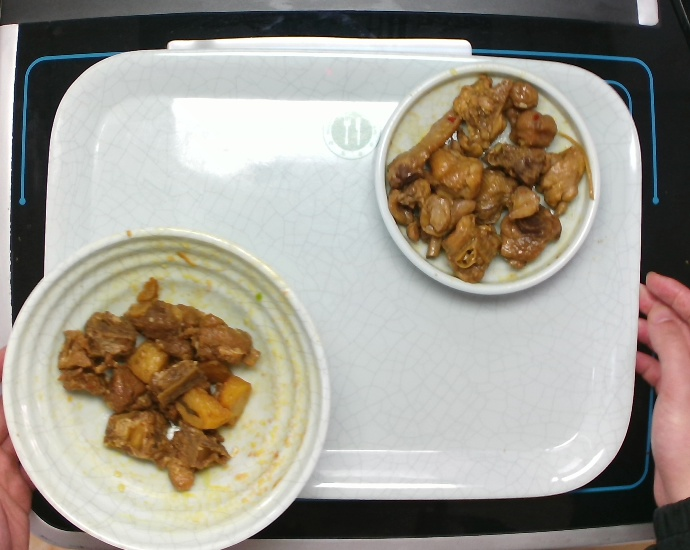JYsf-Da_Tang_Wan: (1, 227, 344, 550)
JYsf-Xiao_Yuan_Pan: (365, 57, 606, 304)
